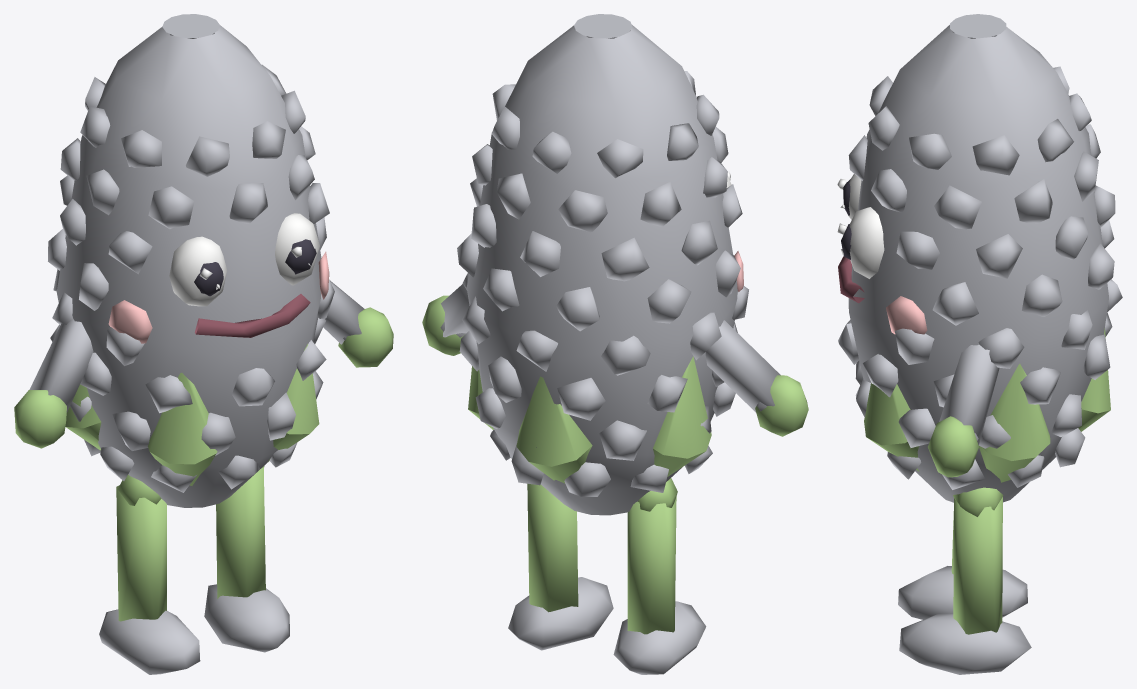
File: Corn.fbx
The picture shows the model from 3 angles, left to right: view 1: azimuth 30°, elevation 25°; view 2: azimuth 150°, elevation 25°; view 3: azimuth 270°, elevation 25°; orthographic projection.
Visible parts, largest first — view 1: EX_Corn; view 2: EX_Corn; view 3: EX_Corn.
Part boxes in pixels (bbox=[...]): EX_Corn: bbox=[14, 14, 393, 674]; EX_Corn: bbox=[422, 14, 808, 674]; EX_Corn: bbox=[837, 14, 1122, 674].
Bounding box in the file's own units: 151 × 240 × 100.
